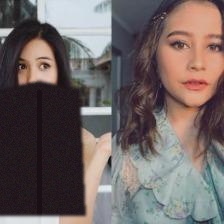Cadar_Niqab: (0, 14, 85, 215)
